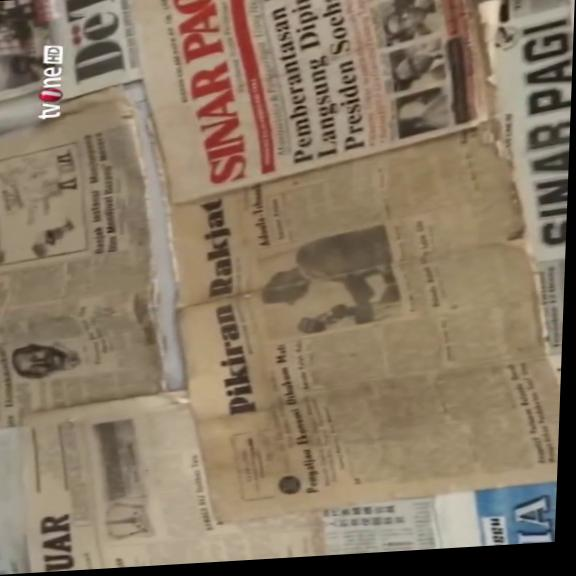Kertas: (159, 102, 560, 543), (6, 380, 335, 572), (0, 104, 178, 418)
